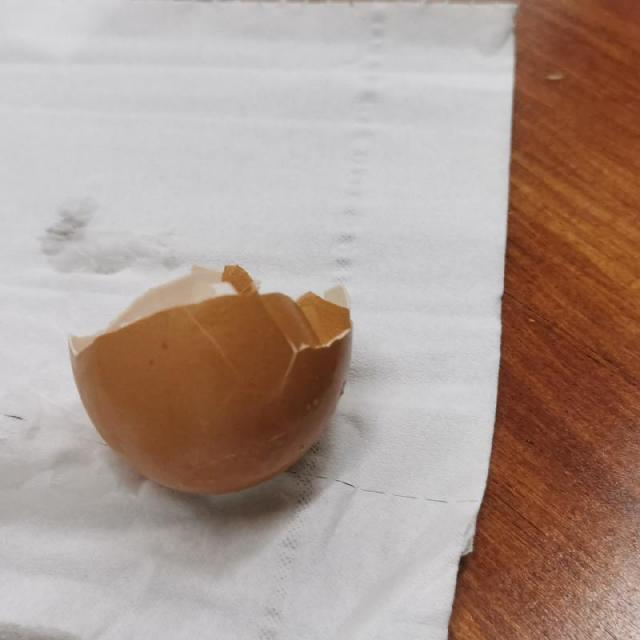egg shell: (65, 257, 358, 504)
